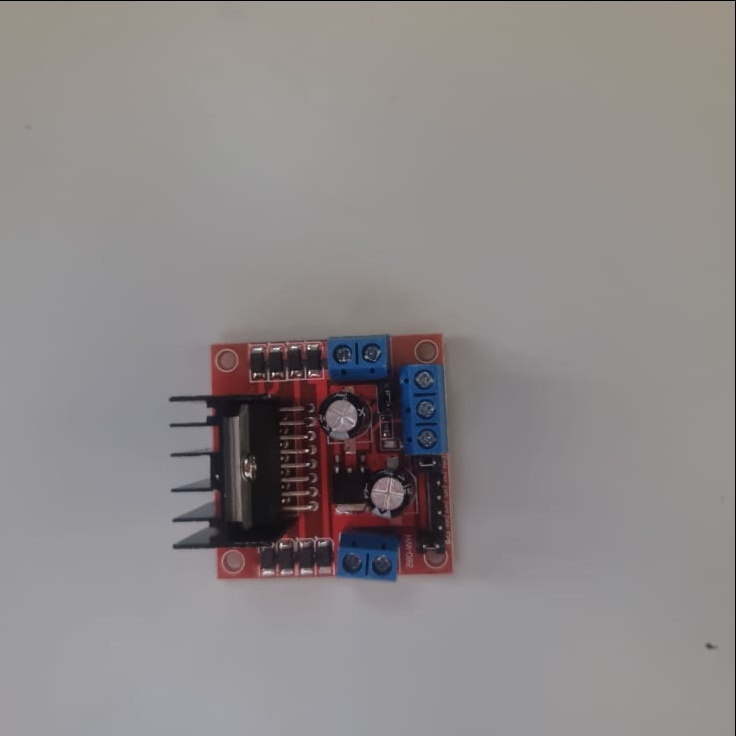MOTOR: (174, 330, 449, 581)
